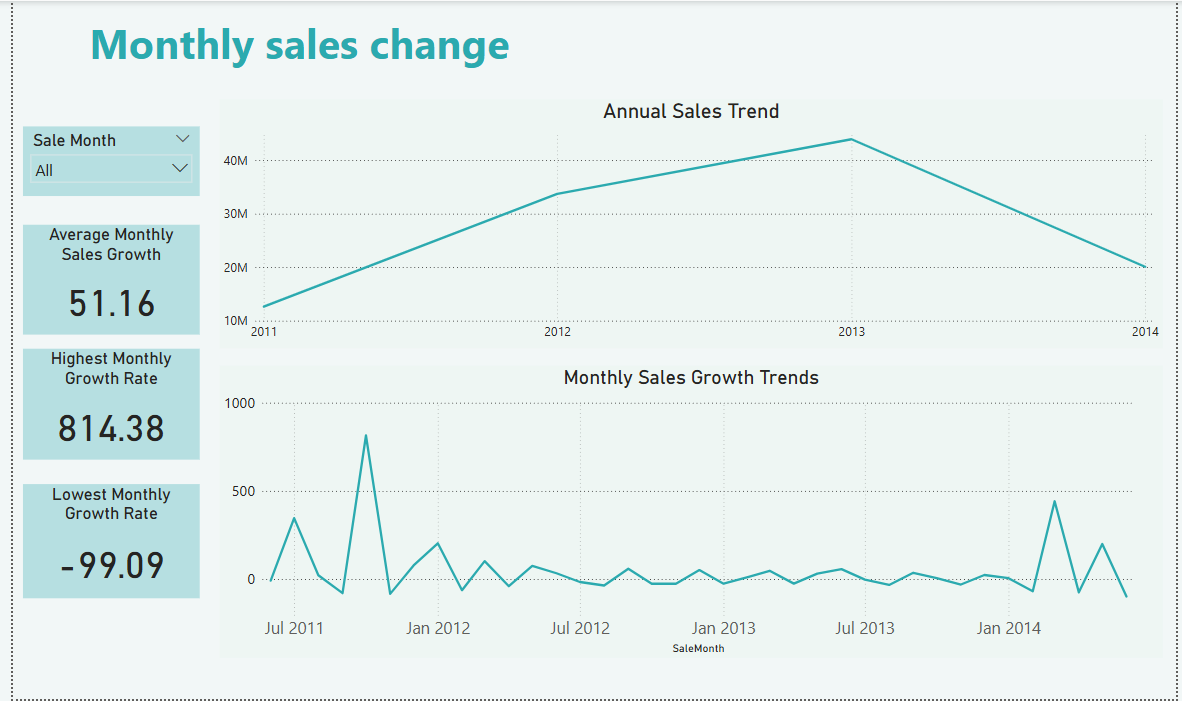

This screenshot's page, from the dashboard's own definition file:
{"tool":"powerbi","page":{"name":"Monthly sales change ","canvas":[1500,900],"ordinal":1},"visuals":[{"type":"lineChart","title":"Annual Sales Trend","fields":{"Category":["Monthly sales change analysis clean.SaleMonth.Variation.Date Hierarchy.Year","Monthly sales change analysis clean.SaleMonth.Variation.Date Hierarchy.Quarter","Monthly sales change analysis clean.SaleMonth.Variation.Date Hierarchy.Month","Monthly sales change analysis clean.SaleMonth.Variation.Date Hierarchy.Day"],"Y":["Sum(Monthly sales change analysis clean.TotalSales)"]},"box":[266.6,126.9,1217.1,321.7],"z":0},{"type":"lineChart","title":" Monthly Sales Growth Trends","fields":{"Category":["Monthly sales change analysis clean.SaleMonth"],"Y":["Sum(Monthly sales change analysis clean.GrowthRatePercent)"]},"box":[266.6,470.7,1217.1,376.9],"z":1000},{"type":"card","title":"Average Monthly Sales Growth","fields":{"Values":["Avg(Monthly sales change analysis clean.GrowthRatePercent)"]},"box":[12.9,288.7,228,141.6],"z":2000},{"type":"card","title":"Highest Monthly Growth Rate","fields":{"Values":["Max(Monthly sales change analysis clean.GrowthRatePercent)"]},"box":[12.9,448.6,228,143.4],"z":3000},{"type":"card","title":"Lowest Monthly Growth Rate","fields":{"Values":["Min(Monthly sales change analysis clean.GrowthRatePercent)"]},"box":[12.9,623.3,228,147.1],"z":4000},{"type":"slicer","fields":{"Values":["Monthly sales change analysis clean.SaleMonth"]},"box":[12.9,161.8,228,90.1],"z":5000},{"type":"textbox","box":[66.2,12.9,621.4,114],"z":6000}]}

Visuals, with their boxes in screenshot pixels (x1, y1, x2, y2), scaled from the page's 1500x900 canvas onto the 1182x701 screenshot:
"Annual Sales Trend" lineChart: 210/99/1169/349
" Monthly Sales Growth Trends" lineChart: 210/367/1169/660
"Average Monthly Sales Growth" card: 10/225/190/335
"Highest Monthly Growth Rate" card: 10/349/190/461
"Lowest Monthly Growth Rate" card: 10/485/190/600
slicer - Monthly sales change analysis clean.SaleMonth: 10/126/190/196
textbox: 52/10/542/99
